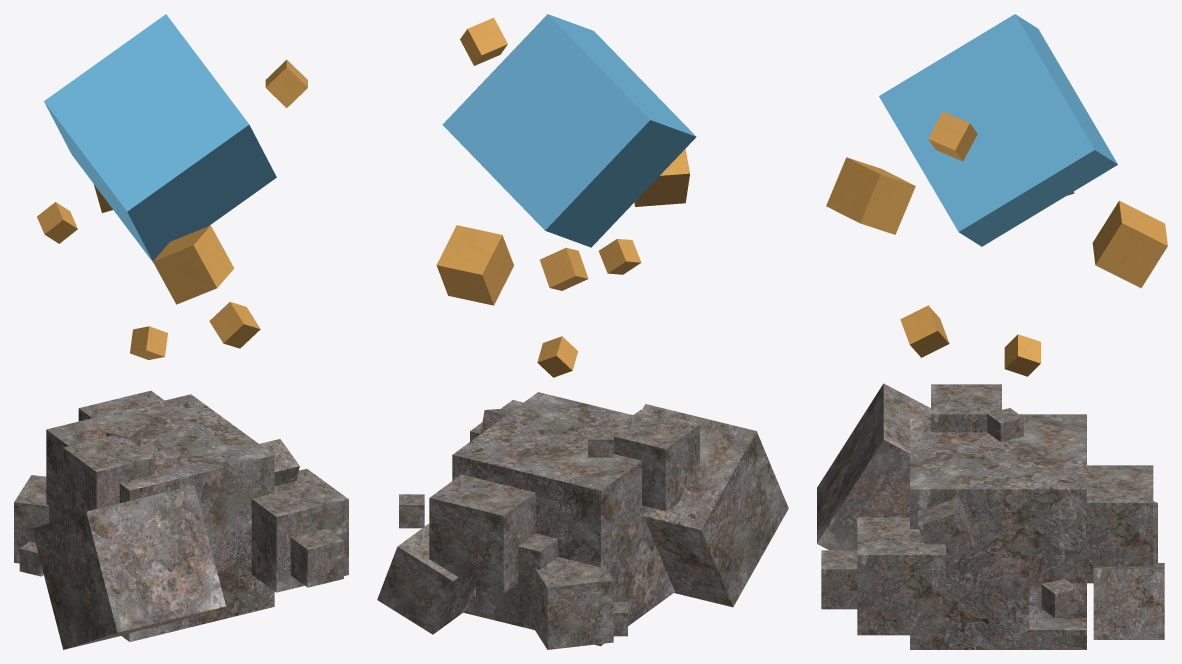
File: Squares_6.glb
3 renders of one model, left to right at view 1: azimuth 30°, elevation 25°; view 2: azimuth 150°, elevation 25°; view 3: azimuth 270°, elevation 25°, orthographic. The views are drawn at different scales.
Visible parts, largest first — view 1: Cube.019; view 2: Cube.019; view 3: Cube.019.
Part boxes in pixels (box(x1,y1,x2,y2)): Cube.019: box(14, 14, 348, 649); Cube.019: box(377, 14, 788, 649); Cube.019: box(817, 14, 1167, 649).
Size of the model in its own units: 3.7 by 7.56 by 3.96.
Materials: 3 (2 with a texture image).
